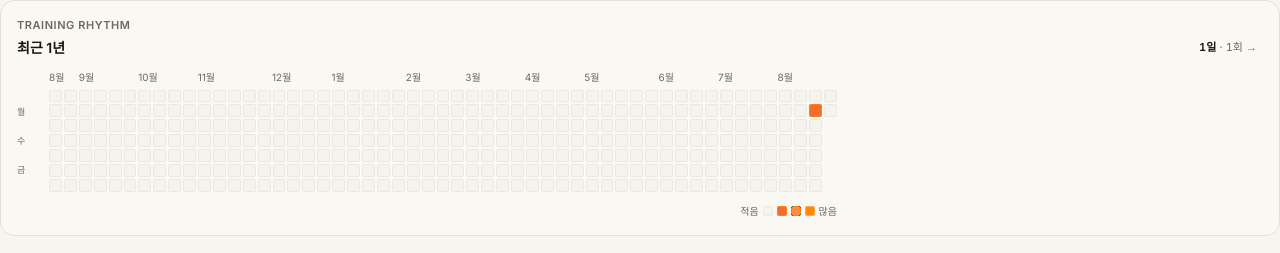
Test: TrainingHeatmap 고정 팝오버와 해시태그 › 툴팁에 해시태그가 보인다
This screenshot has width=1280, height=253.
Step 1. Hover over the button titled "2026-08-10 · 1회" → (816,111), box left=809, top=104, right=822, bottom=117
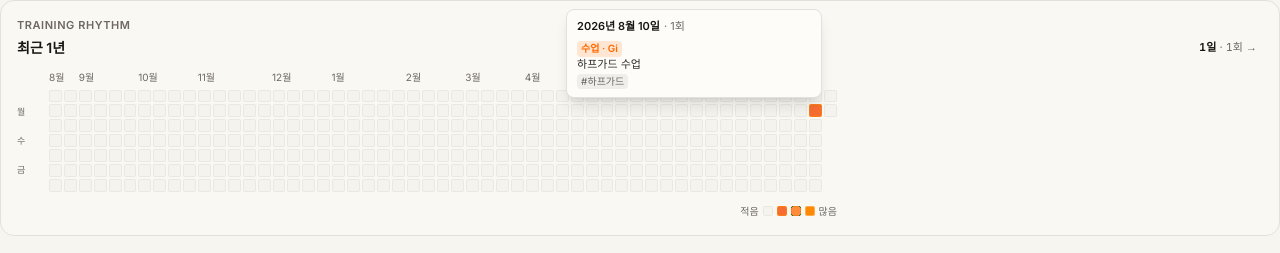
expect the tooltip shows "#하프가드": met, box left=566, top=9, right=822, bottom=98
